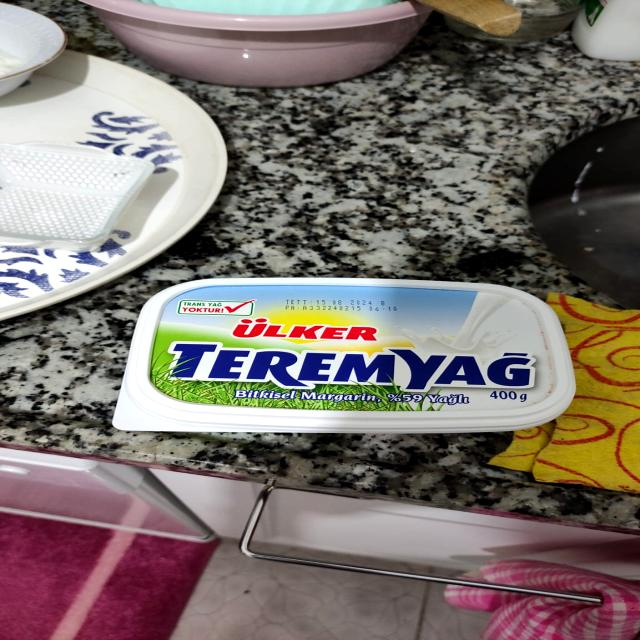margarine: (113, 269, 573, 442)
